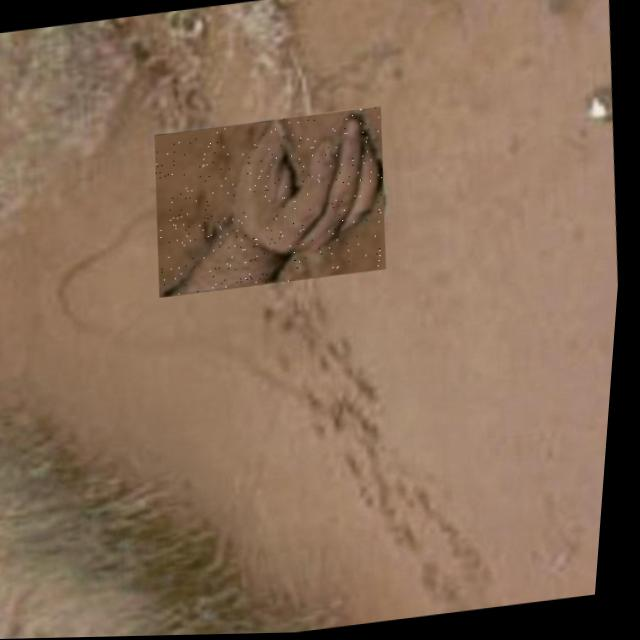Person in Rubble: (146, 106, 399, 298)
